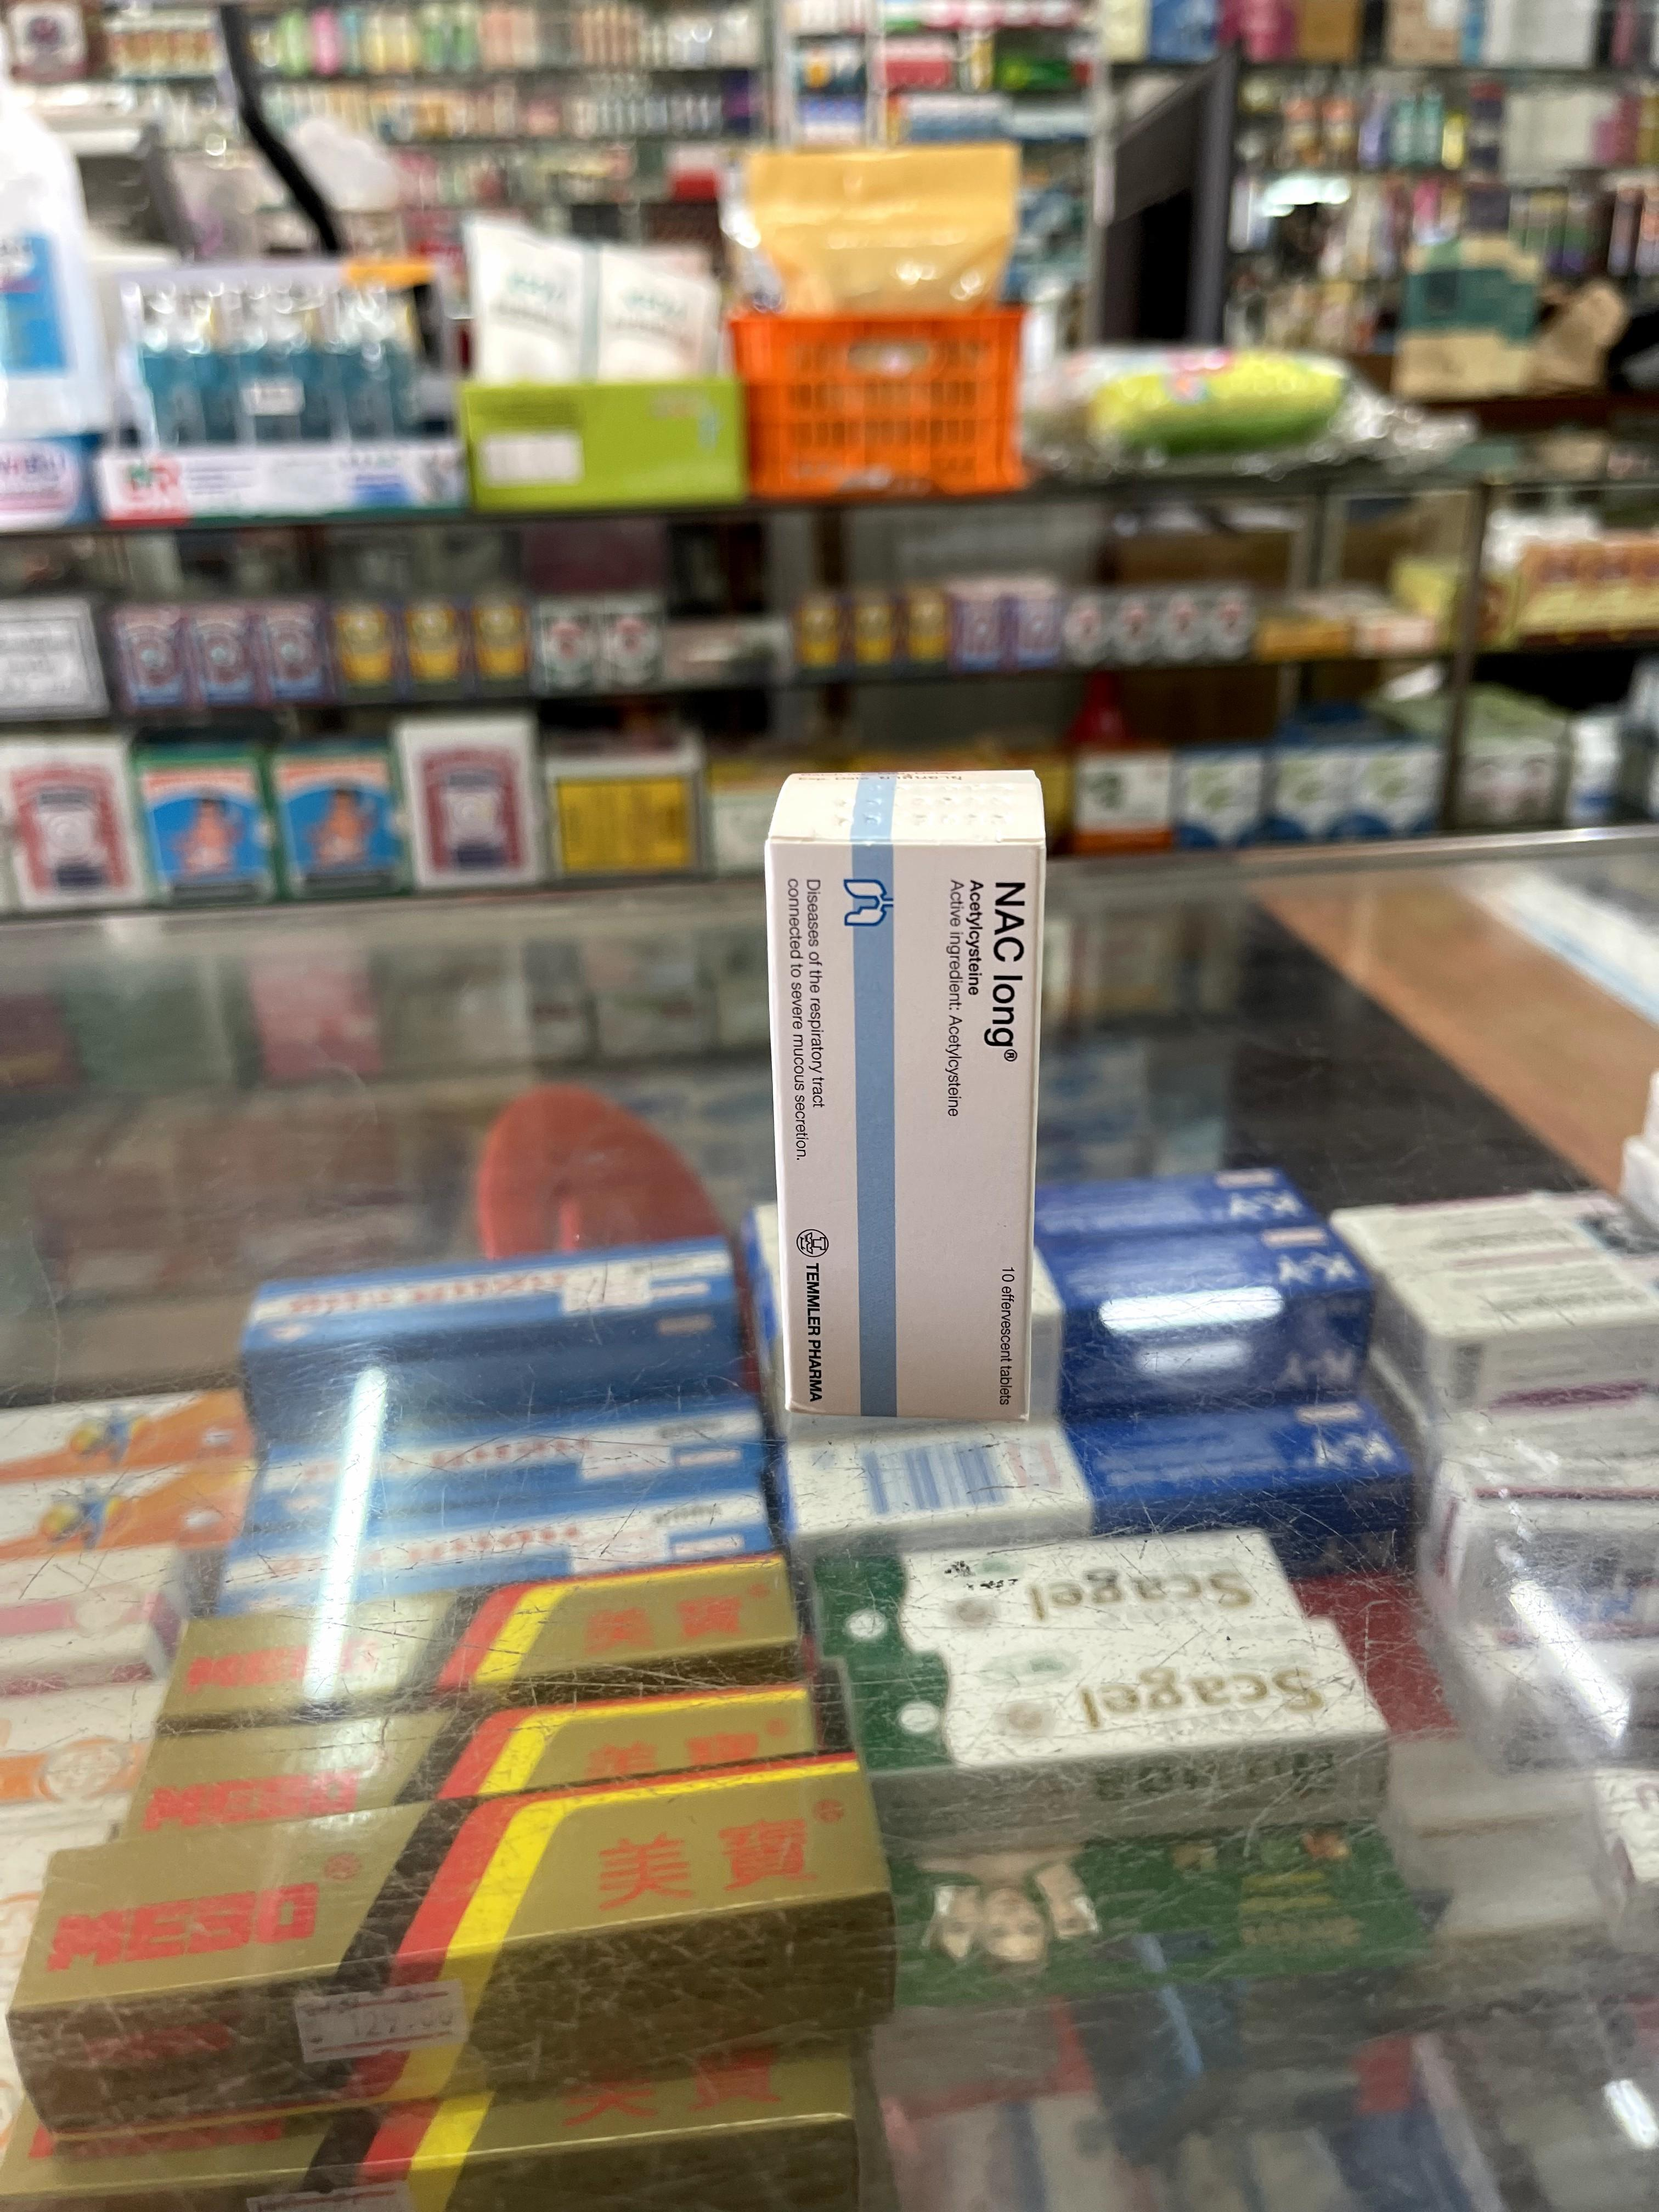Nac-Long: (775, 772, 1046, 1423)
